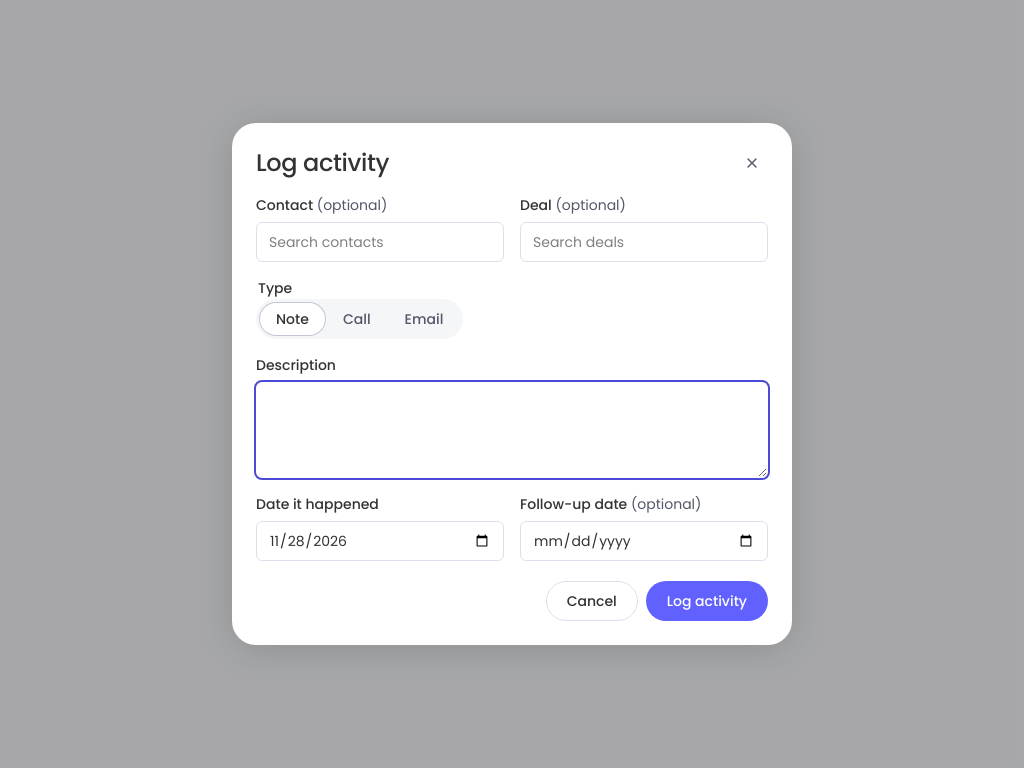
the activity form › asks for a contact or a deal when opened without one
Type "Note" into the text box labelled "Description" at (512, 430), box [256, 382, 768, 478]
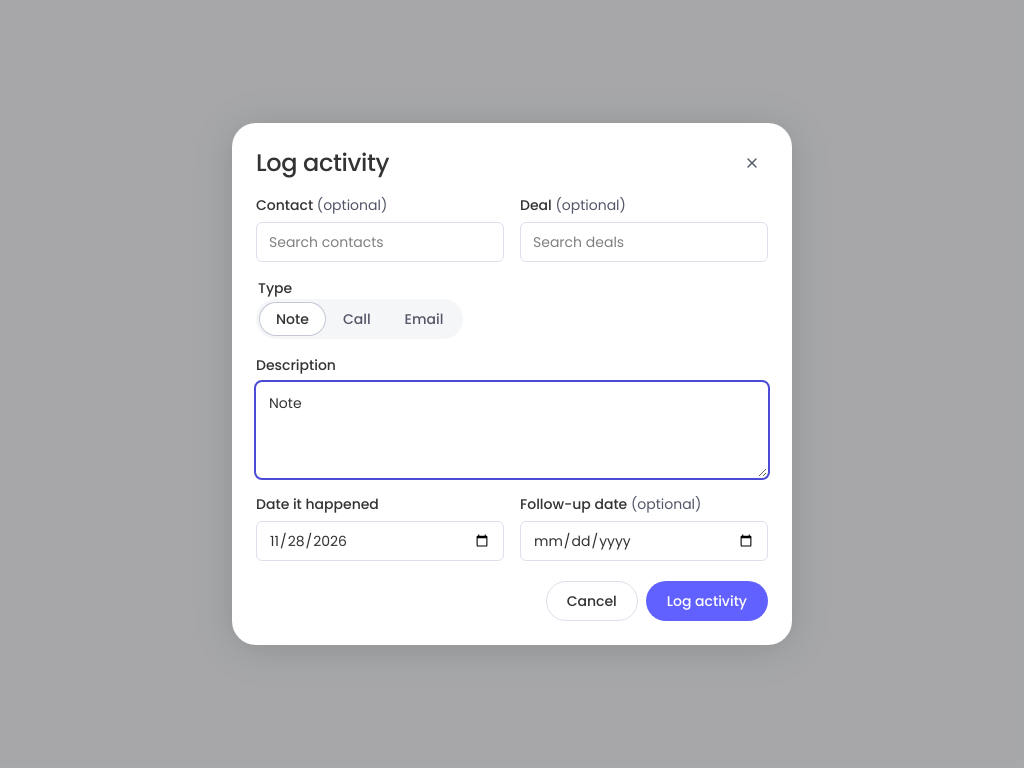
Click the button "Log activity" at (707, 601), box [646, 581, 768, 621]
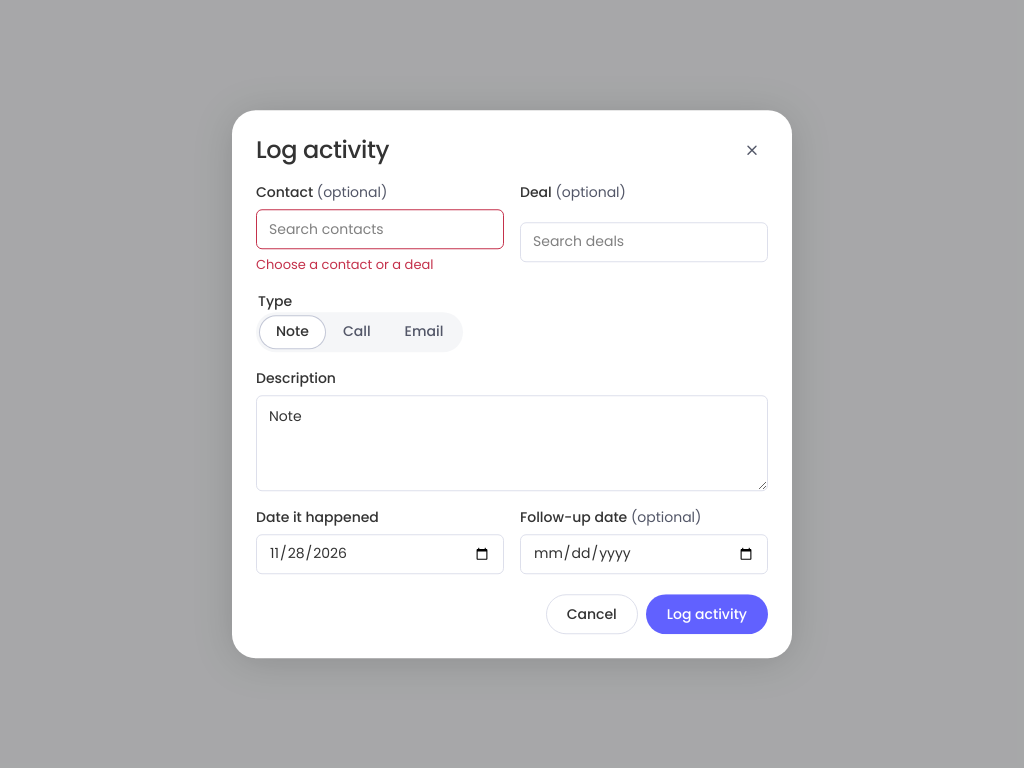
Result: the text "Choose a contact or a deal" is shown at [256, 255, 434, 274]
